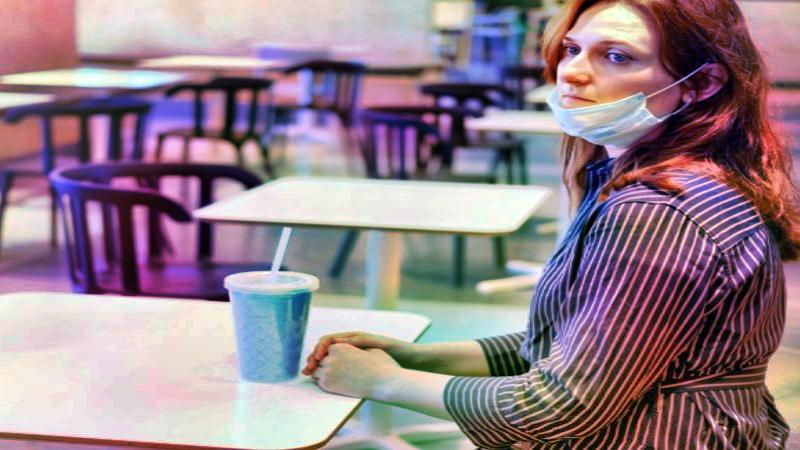mask_weared_incorrect: (547, 1, 759, 148)
